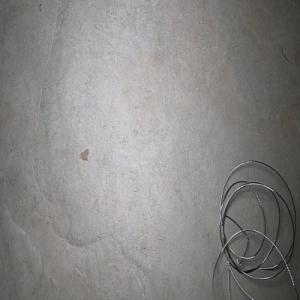Wire: (212, 160, 299, 300)
